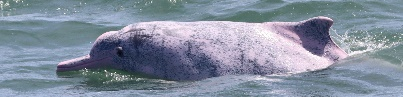fin: (50, 10, 354, 84)
